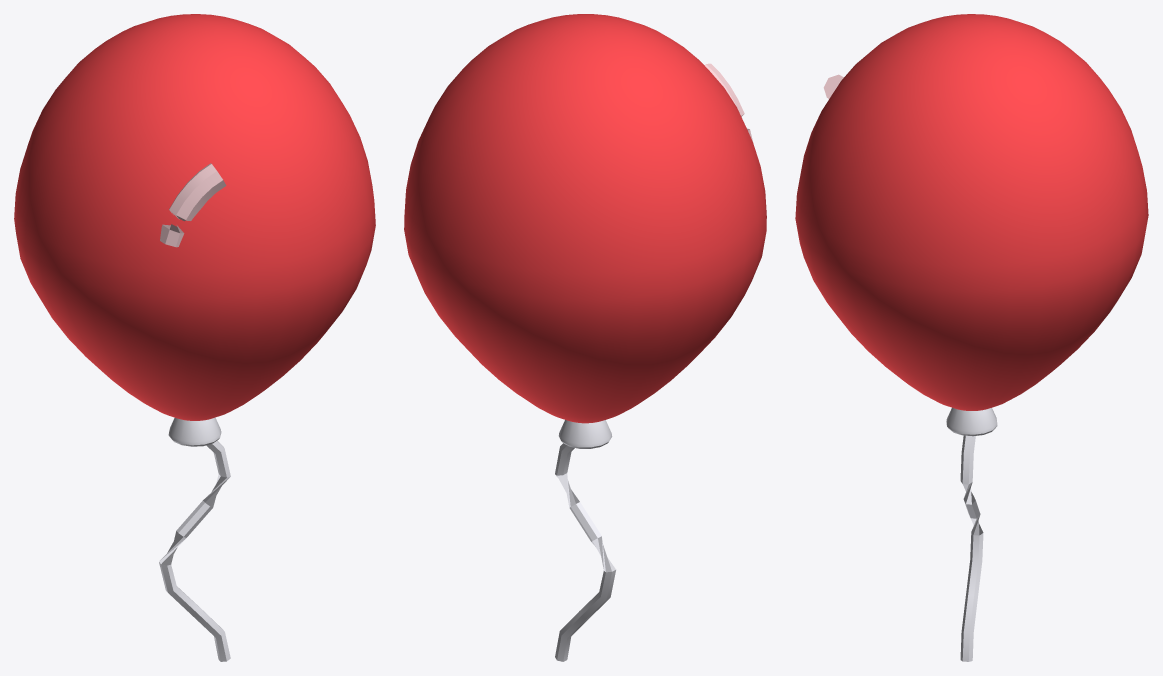
Rendered from Balloon.fbx.
3 views of the same model, side by side, from view 1: azimuth 30°, elevation 25°; view 2: azimuth 150°, elevation 25°; view 3: azimuth 270°, elevation 25° (orthographic). The views are drawn at different scales.
Visible parts, largest first — view 1: Balloon_Body, Balloon_Trim, Balloon_Neon; view 2: Balloon_Body, Balloon_Trim; view 3: Balloon_Body, Balloon_Trim.
Boxes of the visible parts, box(x1,y1,x2,y2) form: Balloon_Body: box(14, 14, 375, 420); Balloon_Trim: box(159, 417, 230, 661); Balloon_Neon: box(160, 163, 226, 247); Balloon_Body: box(404, 14, 766, 423); Balloon_Trim: box(555, 420, 615, 661); Balloon_Body: box(795, 14, 1148, 410); Balloon_Trim: box(946, 407, 997, 661).
Size of the model in its own units: 1.55 by 3 by 1.55.
